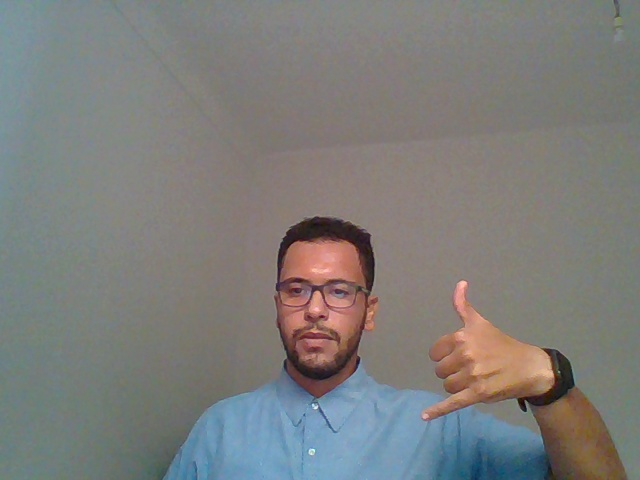callme: (393, 244, 592, 472)
